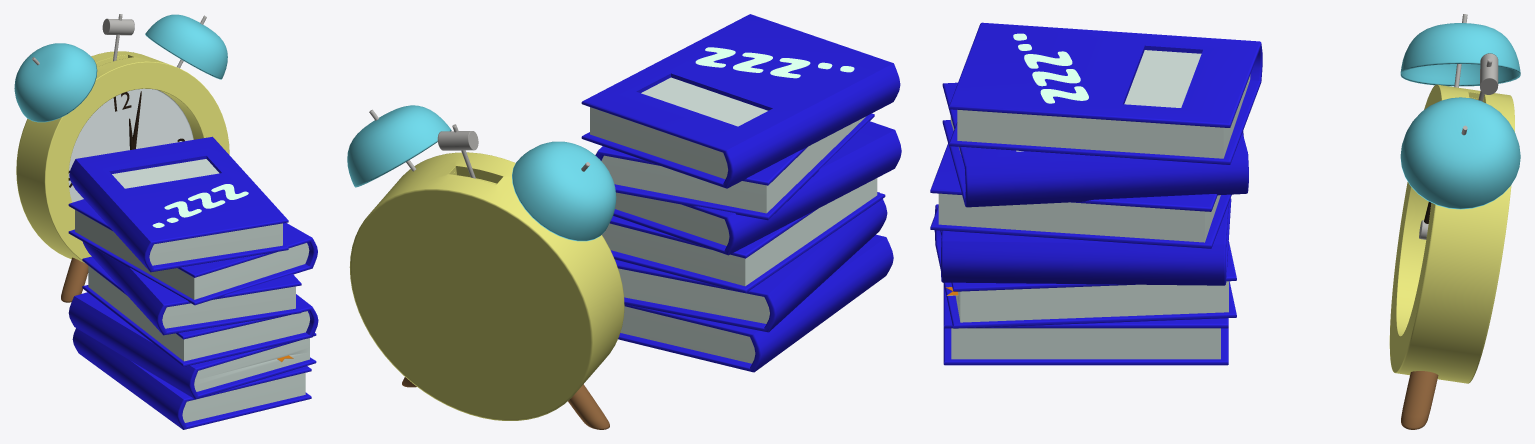
Rendered from yumelog2.glb.
3 renders of one model, left to right at view 1: azimuth 30°, elevation 25°; view 2: azimuth 150°, elevation 25°; view 3: azimuth 270°, elevation 25°, orthographic. The views are drawn at different scales.
Visible parts, largest first — view 1: Cube.005, 円柱, 球, Cube.001, Cube.004, Cube, Cube.002, Cube.003, テキスト.004, 円柱.006, 円柱.007; view 2: 円柱, Cube.005, 球, Cube.001, Cube, Cube.003, Cube.002, Cube.004, テキスト.004, 円柱.006, 円柱.007; view 3: Cube.005, 円柱, 球, Cube.004, Cube.002, Cube.003, Cube, Cube.001, テキスト.004, 円柱.006, 円柱.007.
Boxes of the visible parts, box(x1,y1,x2,y2) form: Cube.005: box(69, 136, 288, 272); 円柱: box(16, 51, 229, 263); 球: box(14, 14, 227, 122); Cube.001: box(68, 292, 316, 399); Cube.004: box(68, 199, 317, 305); Cube: box(72, 328, 311, 429); Cube.002: box(82, 256, 318, 366); Cube.003: box(83, 242, 301, 335); テキスト.004: box(152, 184, 248, 227); 円柱.006: box(61, 257, 88, 302); 円柱.007: box(102, 18, 134, 35); 円柱: box(349, 152, 624, 420); Cube.005: box(581, 14, 900, 188); 球: box(347, 105, 616, 241); Cube.001: box(615, 192, 887, 332); Cube: box(618, 234, 893, 372); Cube.003: box(613, 121, 901, 255); Cube.002: box(602, 178, 885, 293); Cube.004: box(595, 113, 874, 220); テキスト.004: box(695, 47, 854, 78); 円柱.006: box(402, 377, 609, 429); 円柱.007: box(437, 131, 478, 150); Cube.005: box(949, 22, 1262, 164); 円柱: box(1389, 84, 1514, 383); 球: box(1400, 23, 1520, 209); Cube.004: box(942, 82, 1248, 207); Cube.002: box(941, 198, 1231, 285); Cube.003: box(930, 131, 1243, 248); Cube: box(943, 285, 1228, 365); Cube.001: box(934, 204, 1236, 328); テキスト.004: box(1013, 33, 1088, 103); 円柱.006: box(1401, 371, 1438, 429); 円柱.007: box(1480, 53, 1498, 94).
Bounding box in the file's own units: 4.08 × 3.7 × 6.08.
